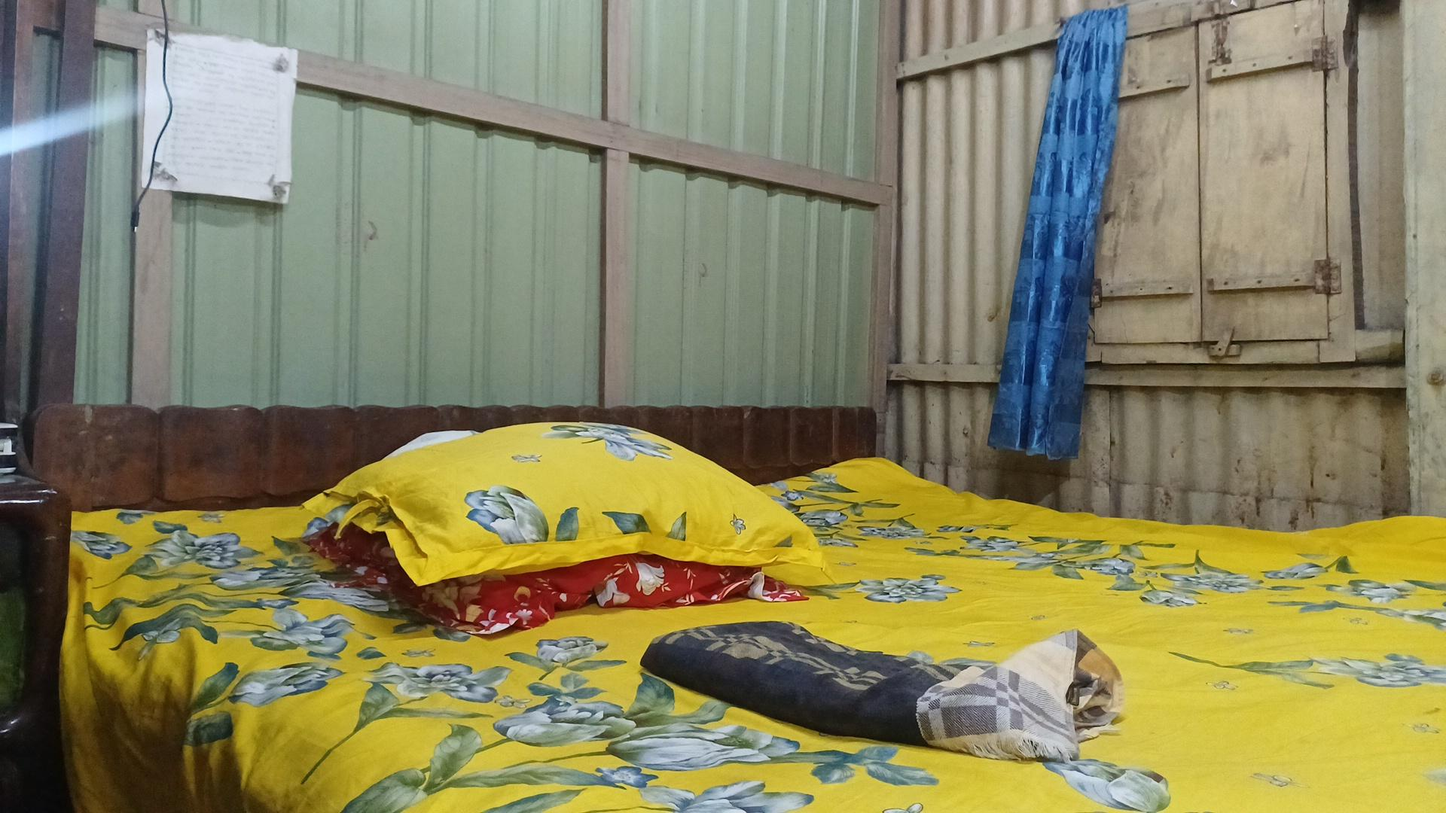Pillow: (306, 419, 820, 593)
Towel: (640, 614, 1169, 800)
Window: (1033, 15, 1378, 386)
